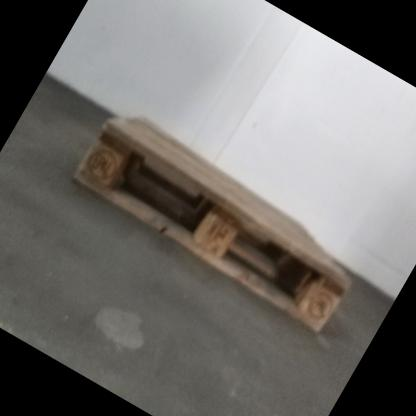BoxFace: (68, 111, 360, 345)
